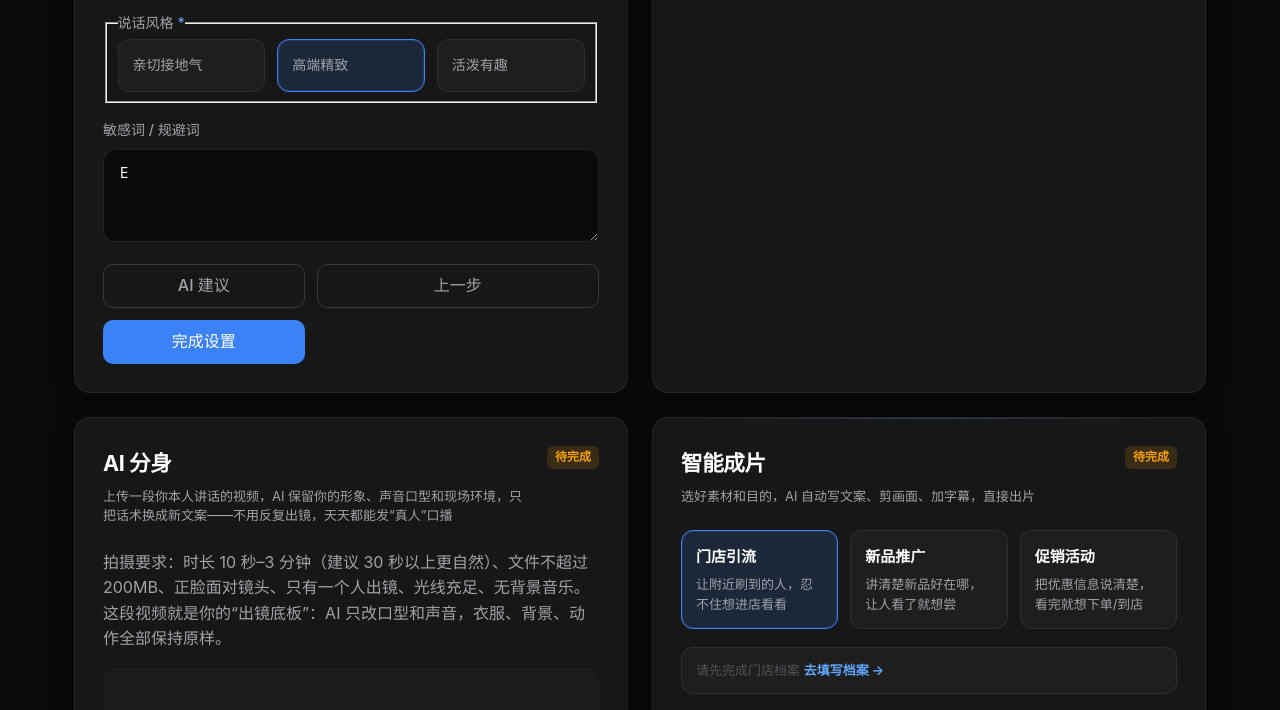
Scenario: AI video assistant dashboard › lets a returning user complete the profile from the saved step
(page scrolled)
Click the button "完成设置" at (204, 342), box x1=103 y1=320 x2=305 y2=364
(page scrolled)
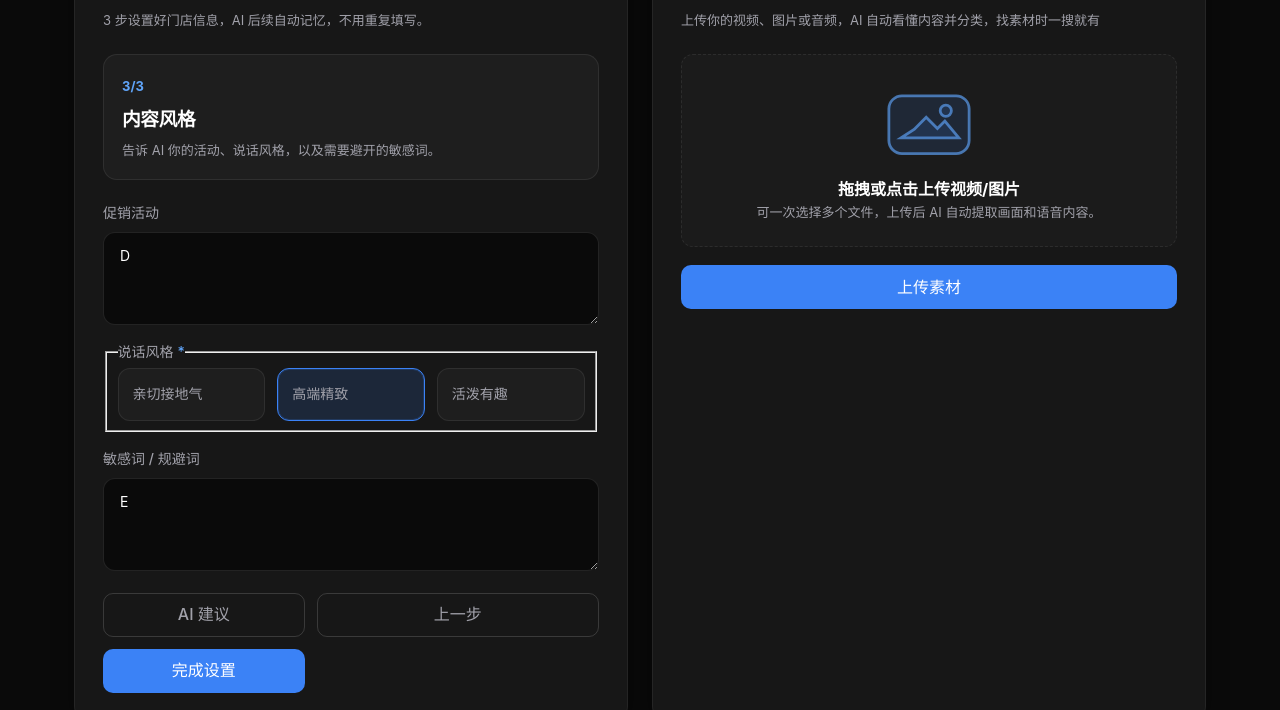
Now the button "上传素材" is enabled, box x1=681 y1=265 x2=1177 y2=309
